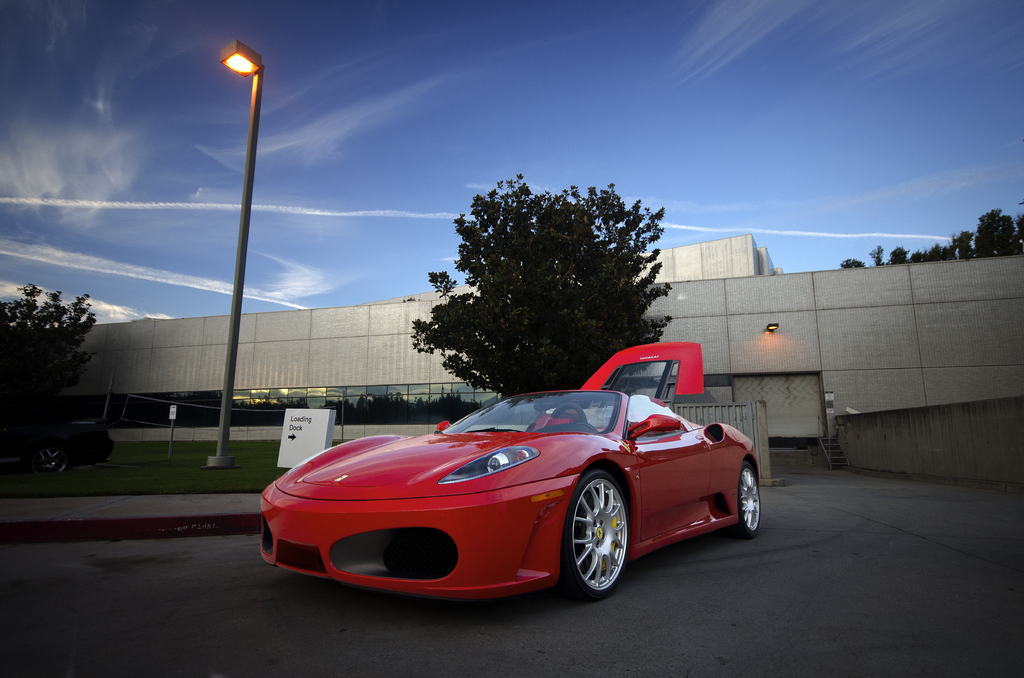mobil: (262, 398, 772, 597)
